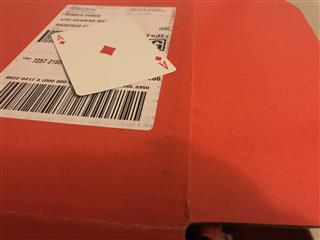AceOfDiamonds: (50, 17, 176, 95)
